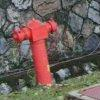a fire hydrant: (15, 22, 66, 85)
